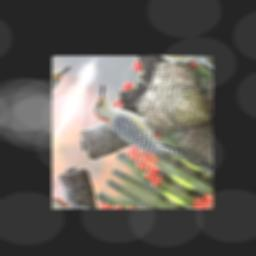Woodpecker: (82, 78, 205, 175)
